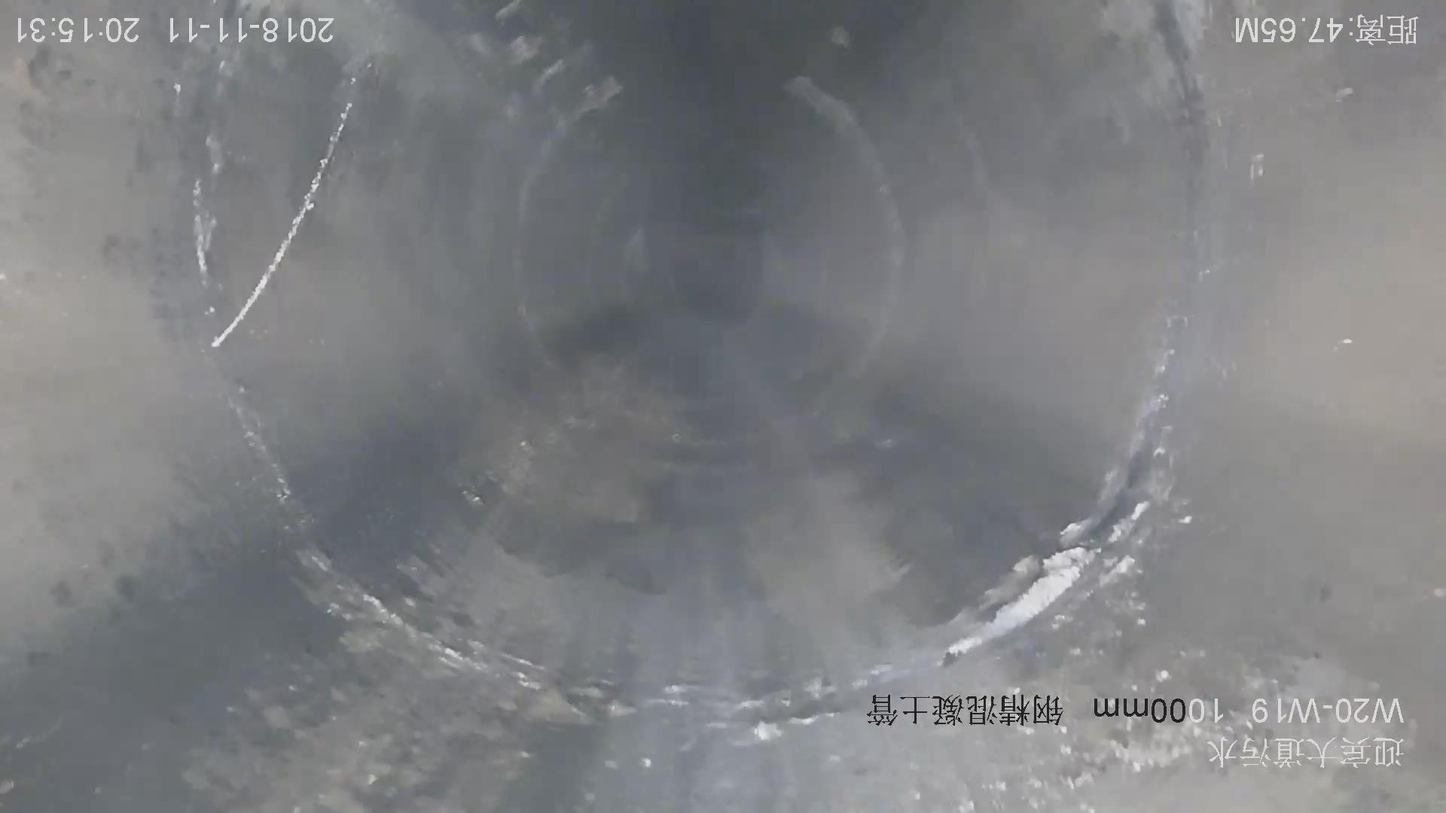SL: (172, 25, 413, 381)
